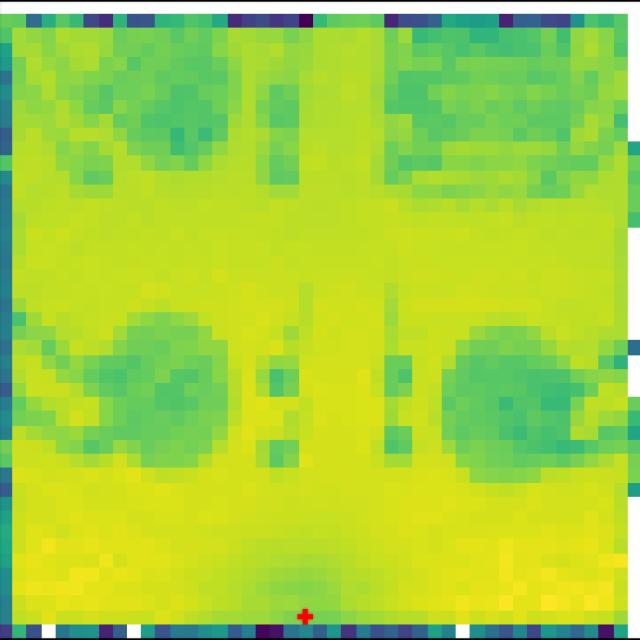Concrete: (429, 296, 561, 486)
Glass: (76, 301, 233, 484)
Metal: (385, 31, 584, 204)
Wood: (71, 27, 239, 190)
